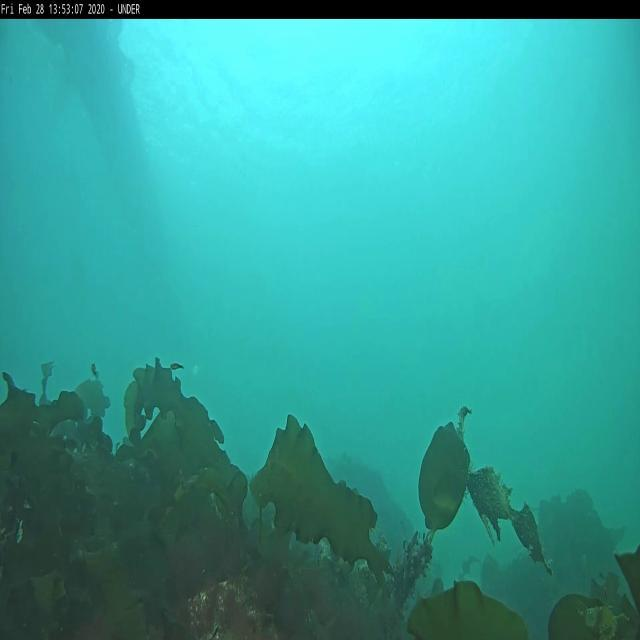fish: (168, 363, 185, 372), (91, 362, 99, 378)
